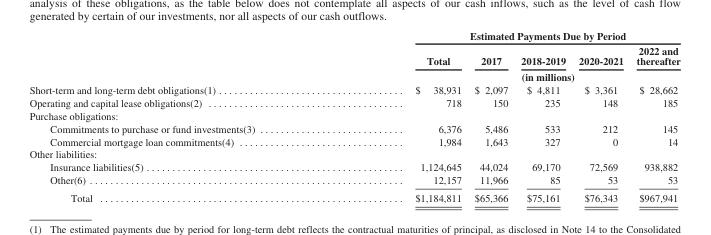table: (28, 28, 679, 203)
table column: (28, 28, 334, 203), (334, 28, 467, 203), (513, 28, 571, 203), (571, 28, 629, 203), (629, 28, 679, 203), (467, 28, 513, 203)
table column header: (28, 28, 679, 82)
table projected row header: (28, 108, 679, 121), (28, 147, 679, 160)
table row: (28, 42, 679, 68), (28, 173, 679, 188), (28, 188, 679, 203), (28, 28, 679, 42), (28, 68, 679, 82), (28, 82, 679, 95), (28, 95, 679, 108), (28, 108, 679, 121), (28, 121, 679, 134), (28, 134, 679, 147), (28, 147, 679, 160), (28, 160, 679, 173)
table spanning cell: (334, 28, 679, 42), (334, 68, 679, 82)
